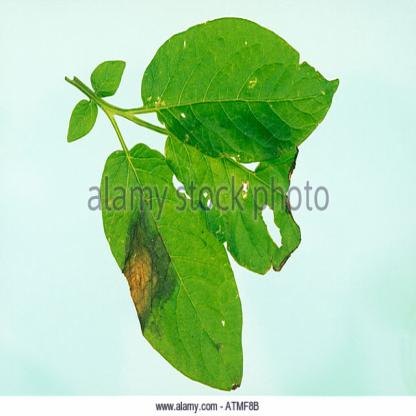potato leaf late blight: (93, 142, 249, 393)
